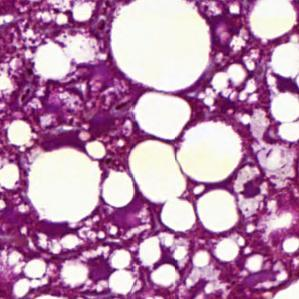steatosis: (27, 148, 99, 222), (135, 93, 189, 139), (195, 189, 240, 233), (101, 172, 135, 208)
